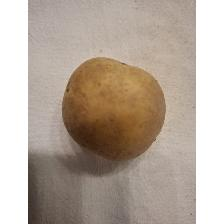Kartoffel: (58, 53, 168, 165)
